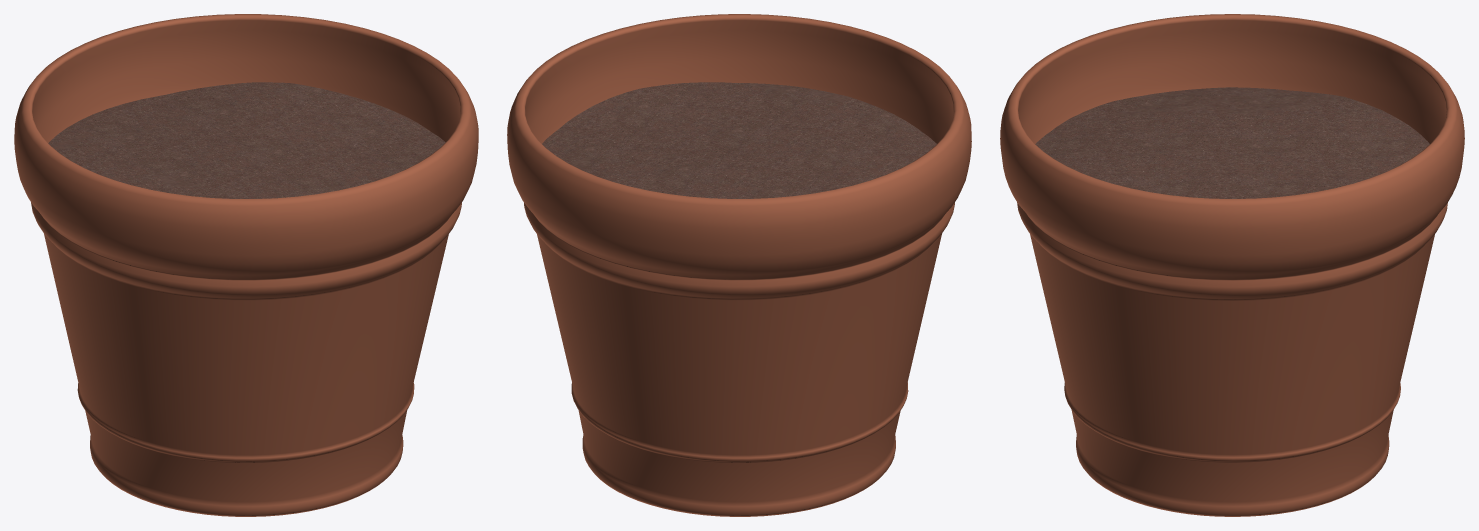
File: plant_pot.glb
3 renders of one model, left to right at view 1: azimuth 30°, elevation 25°; view 2: azimuth 150°, elevation 25°; view 3: azimuth 270°, elevation 25°, orthographic.
Visible parts, largest first — view 1: Plant_Pot, Plant_Pot_Soil; view 2: Plant_Pot, Plant_Pot_Soil; view 3: Plant_Pot, Plant_Pot_Soil.
Boxes of the visible parts, x1,y1,x2,y2 form: Plant_Pot: [14, 14, 478, 516]; Plant_Pot_Soil: [48, 82, 445, 198]; Plant_Pot: [507, 14, 971, 516]; Plant_Pot_Soil: [542, 82, 936, 198]; Plant_Pot: [1000, 14, 1464, 516]; Plant_Pot_Soil: [1035, 87, 1429, 198].
Bounding box in the file's own units: 0.4479 × 0.3678 × 0.4479.
Materials: 2 (2 with a texture image).
